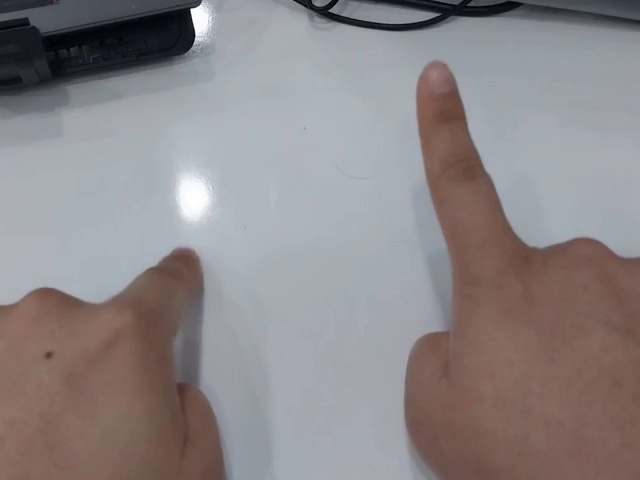fingers: (414, 59, 466, 123), (152, 244, 203, 298)
